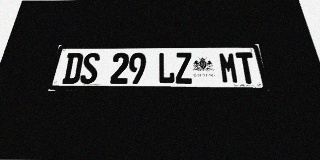2: (110, 53, 129, 84)
9: (128, 53, 146, 84)
D: (61, 53, 84, 84)
L: (158, 53, 175, 84)
M: (218, 52, 240, 84)
S: (79, 53, 100, 84)
T: (235, 52, 258, 84)
Z: (175, 52, 193, 84)
